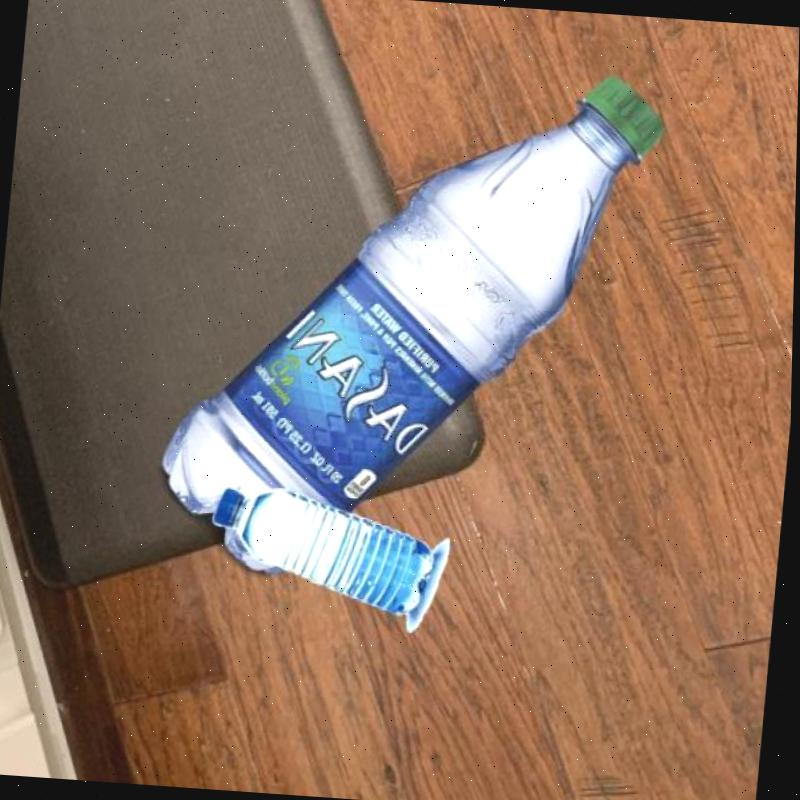botella: (153, 46, 669, 600), (205, 484, 445, 618)
